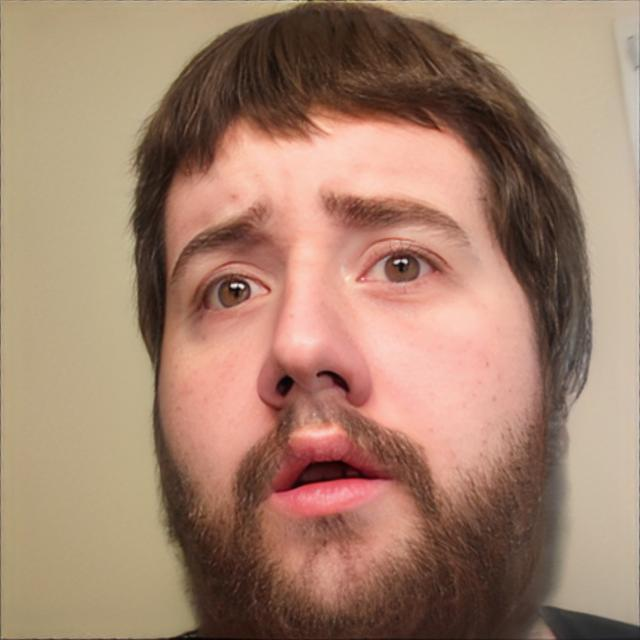fear: (154, 102, 552, 640)
